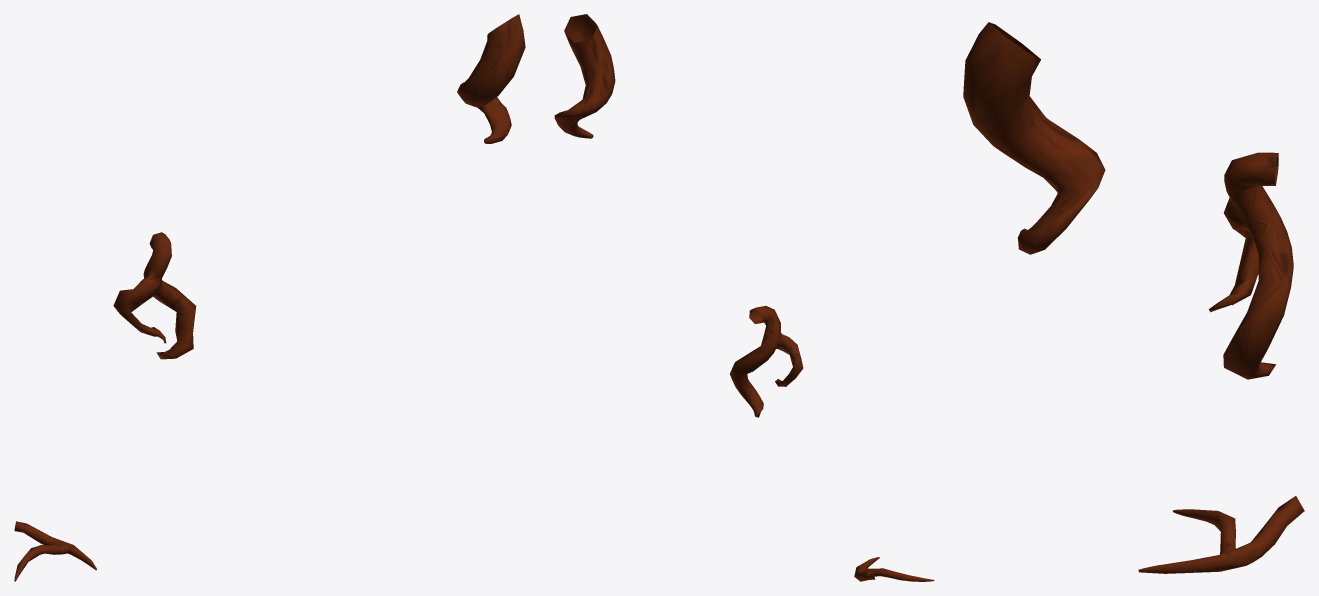
The model's file is Sewer Roots.fbx.
3 views of the same model, side by side, from view 1: azimuth 30°, elevation 25°; view 2: azimuth 150°, elevation 25°; view 3: azimuth 270°, elevation 25° (orthographic). The views are drawn at different scales.
Parts seen in each view (by area): view 1: Root Ceiling, Root Wall, Root Floor; view 2: Root Ceiling, Root Wall, Root Floor; view 3: Root Ceiling, Root Wall, Root Floor.
Boxes of the visible parts, box(x1,y1,x2,y2) form: Root Ceiling: box(457, 14, 525, 143); Root Wall: box(113, 232, 196, 359); Root Floor: box(14, 521, 96, 581); Root Ceiling: box(554, 14, 615, 138); Root Wall: box(730, 306, 803, 417); Root Floor: box(854, 557, 934, 581); Root Ceiling: box(963, 22, 1105, 254); Root Wall: box(1209, 152, 1293, 379); Root Floor: box(1138, 496, 1304, 573).
Size of the model in its own units: 8.21 by 8.39 by 2.97.
